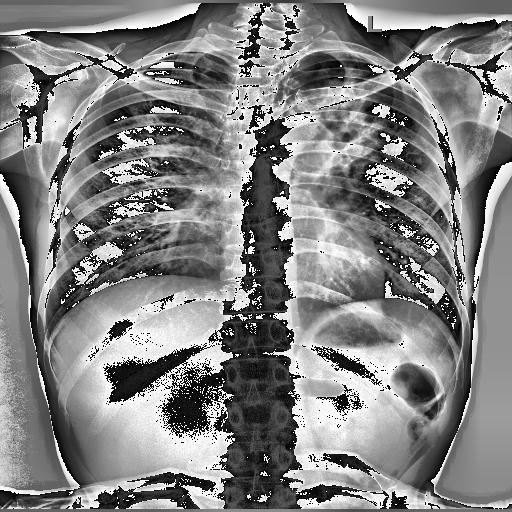13- Pulmonary fibrosis: (283, 67, 383, 191)
4- Consolidation: (283, 67, 383, 191), (282, 77, 384, 197), (280, 76, 384, 190)
6- Infiltration: (122, 90, 200, 168), (130, 104, 210, 174)
7- Lung Opacity: (283, 67, 383, 191), (282, 77, 384, 197)
